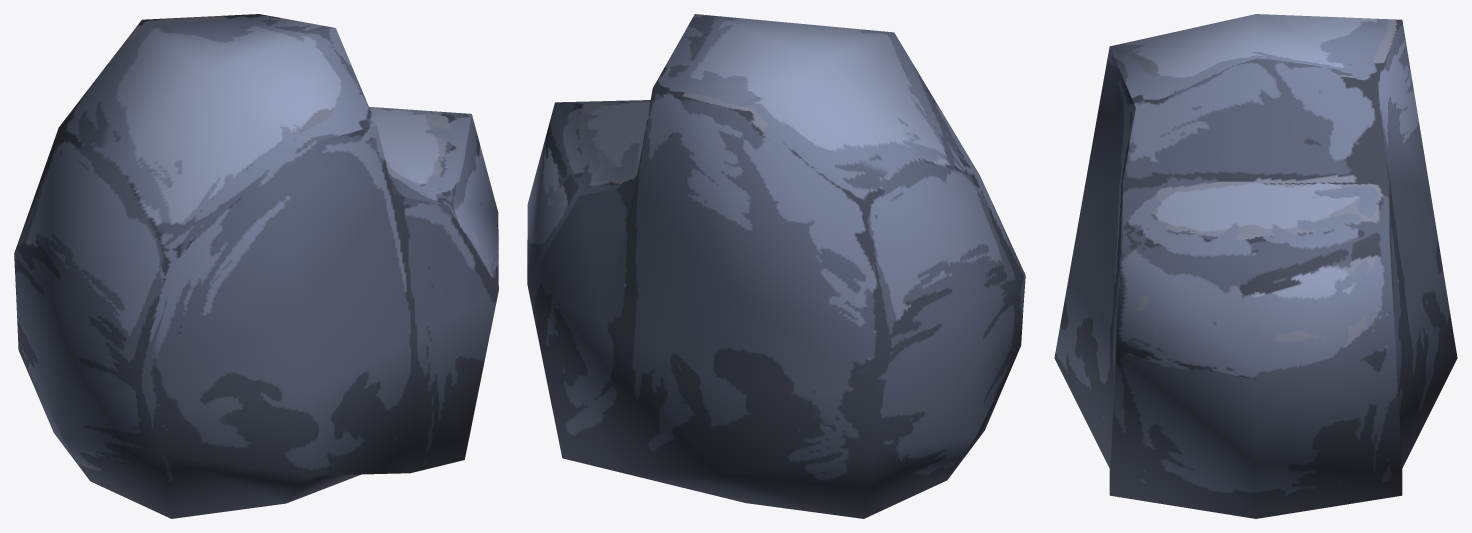
Rendered from rock_b.glb.
The picture shows the model from 3 angles, left to right: view 1: azimuth 30°, elevation 25°; view 2: azimuth 150°, elevation 25°; view 3: azimuth 270°, elevation 25°; orthographic projection. The views are drawn at different scales.
Visible parts, largest first — view 1: rock1; view 2: rock1; view 3: rock1.
Boxes of the visible parts, x1,y1,x2,y2 form: rock1: (14, 14, 498, 518); rock1: (527, 14, 1025, 518); rock1: (1054, 14, 1457, 518).
Size of the model in its own units: 2.13 by 1.84 by 1.68.
Materials: 1 (1 with a texture image).
